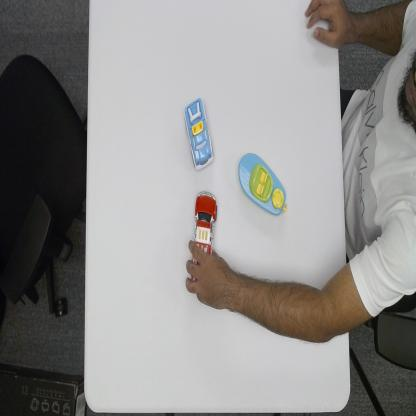Arm: (233, 265, 348, 347)
Boat: (237, 151, 288, 218)
Car: (182, 96, 215, 176)
Firetruck: (190, 190, 219, 282)
Hand: (185, 235, 233, 310), (304, 0, 338, 50)
